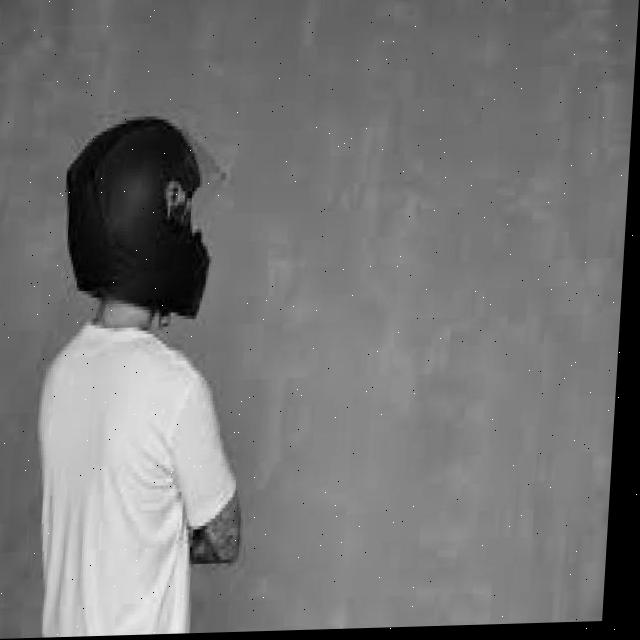Helmet: (62, 112, 230, 323)
